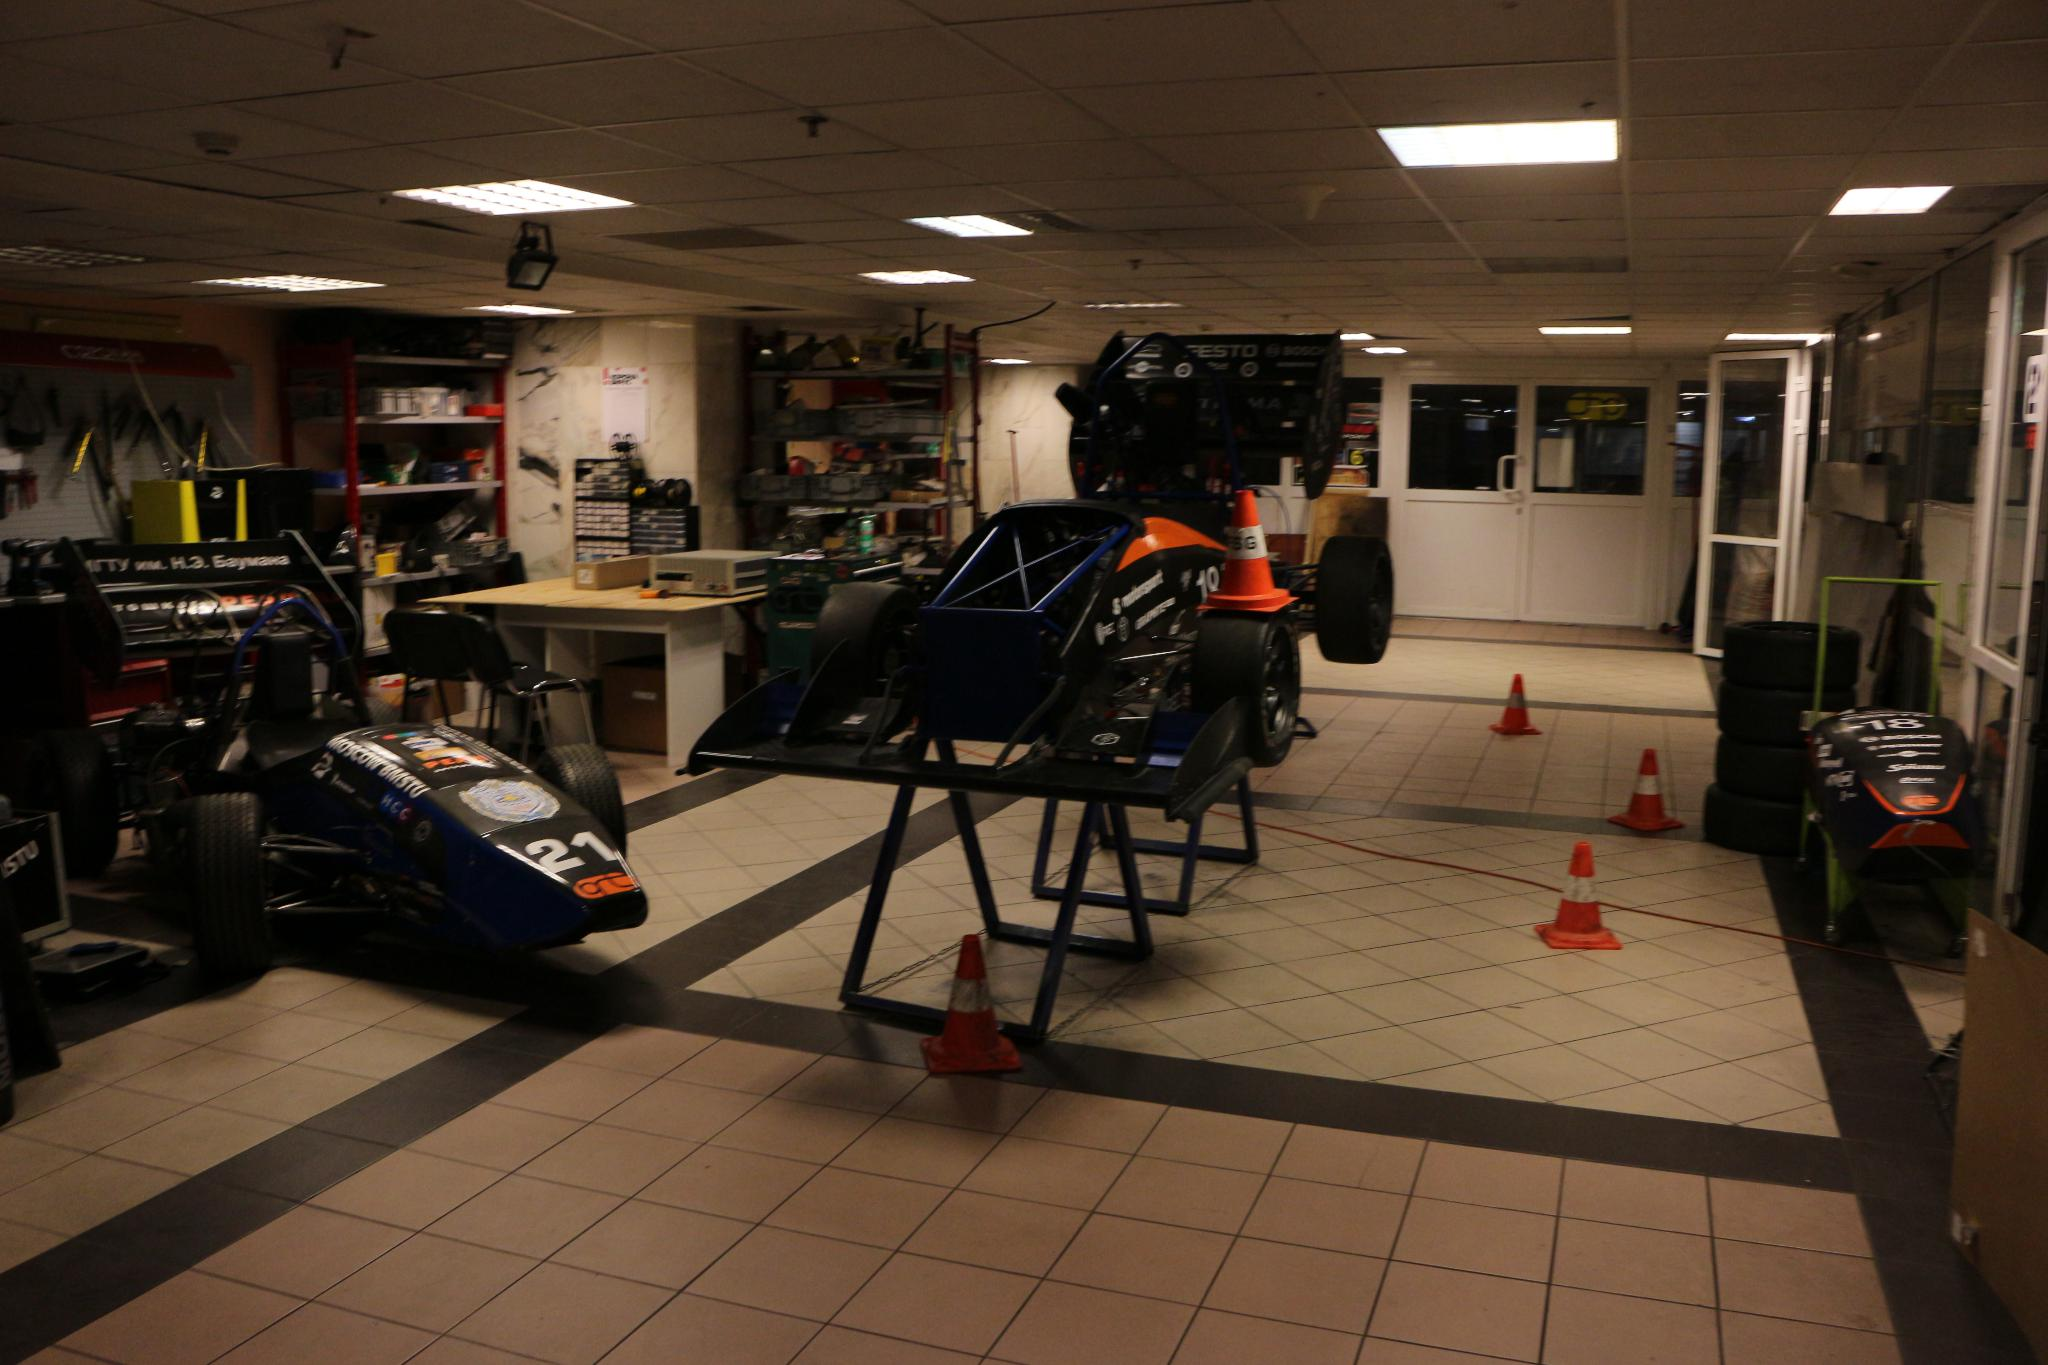Orange_Cone: (915, 934, 1023, 1079), (1195, 487, 1299, 611), (1530, 838, 1623, 954), (1603, 745, 1689, 833), (1486, 669, 1542, 737)
